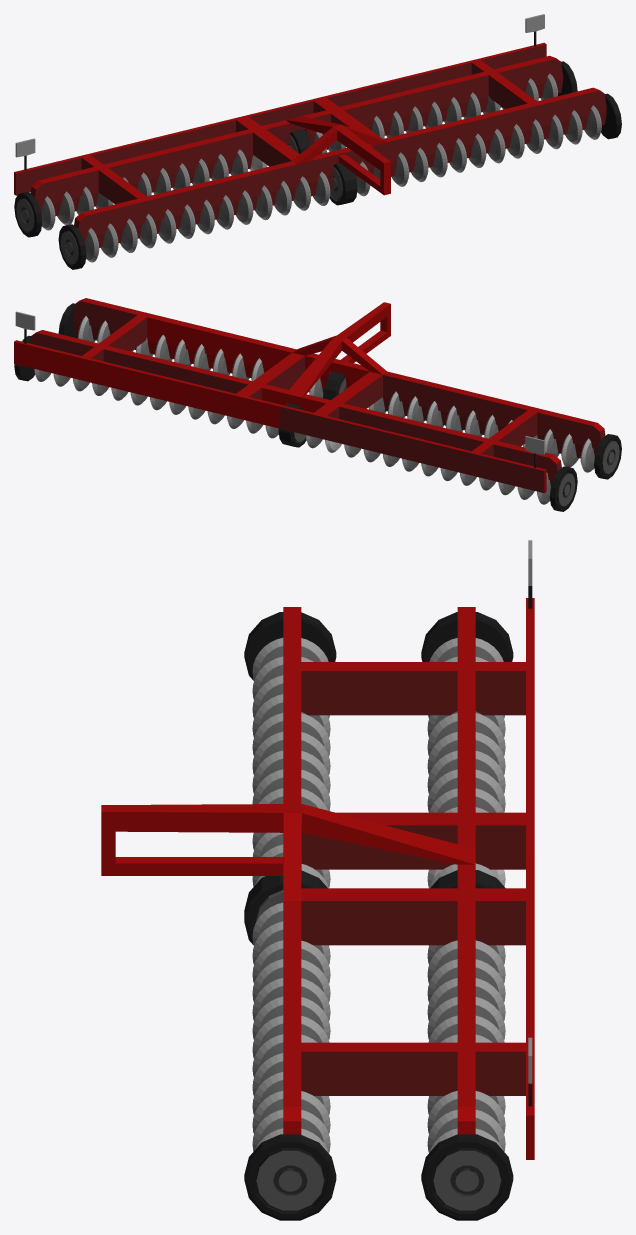
The model's file is Cultivator_Model.fbx.
3 views of the same model, one above another, from view 1: azimuth 30°, elevation 25°; view 2: azimuth 150°, elevation 25°; view 3: azimuth 270°, elevation 25° (orthographic). The views are drawn at different scales.
Visible parts, largest first — view 1: Cultivator; view 2: Cultivator; view 3: Cultivator.
Part boxes in pixels (<box>): Cultivator: <box>14,14,621,269</box>; Cultivator: <box>14,298,621,511</box>; Cultivator: <box>101,540,534,1220</box>.
Size of the model in its own units: 338 by 47.19 by 117.
